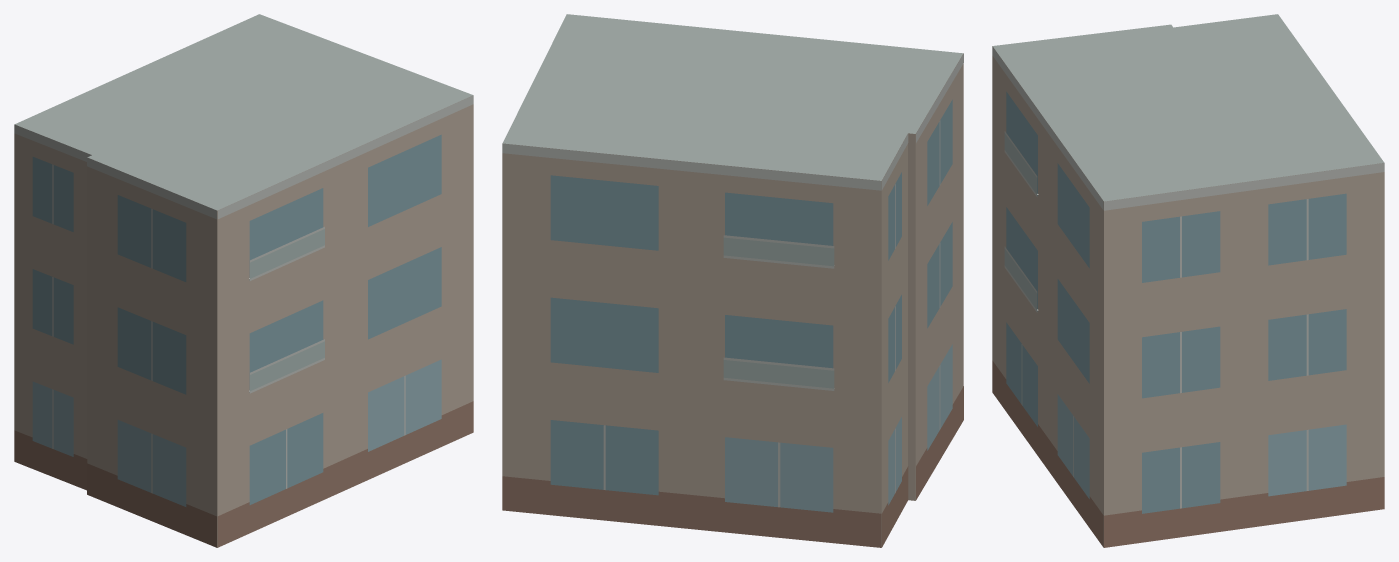
The model's file is survey-upis-32680392.glb.
3 renders of one model, left to right at view 1: azimuth 30°, elevation 25°; view 2: azimuth 150°, elevation 25°; view 3: azimuth 270°, elevation 25°, orthographic. The views are drawn at different scales.
Visible parts, largest first — view 1: survey-upis-32680392.tmp; view 2: survey-upis-32680392.tmp; view 3: survey-upis-32680392.tmp.
Boxes of the visible parts, x1,y1,x2,y2 form: survey-upis-32680392.tmp: [14, 14, 473, 547]; survey-upis-32680392.tmp: [502, 14, 963, 547]; survey-upis-32680392.tmp: [992, 14, 1384, 547].
Size of the model in its own units: 10.64 by 9.15 by 9.4.
